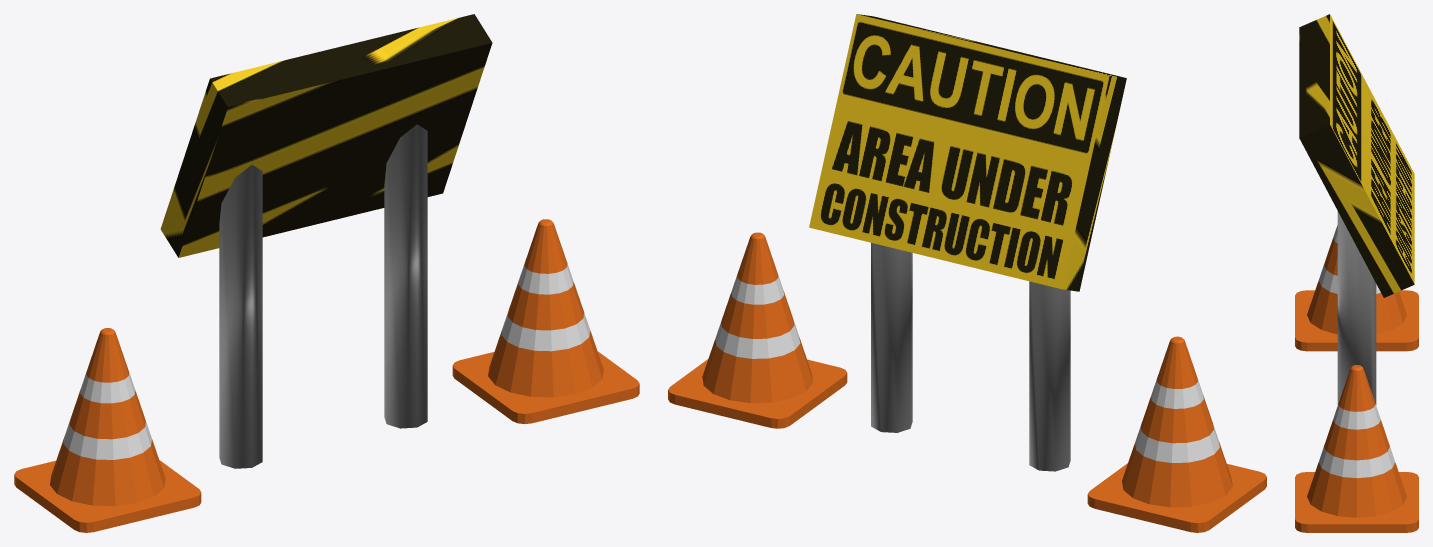
Rendered from Baustelle.fbx.
3 views of the same model, side by side, from view 1: azimuth 30°, elevation 25°; view 2: azimuth 150°, elevation 25°; view 3: azimuth 270°, elevation 25° (orthographic). The views are drawn at different scales.
Parts seen in each view (by area): view 1: Sign_UnderConstr, Pylon.001, Pylon; view 2: Sign_UnderConstr, Pylon, Pylon.001; view 3: Sign_UnderConstr, Pylon.001, Pylon.
Boxes of the visible parts, x1,y1,x2,y2 form: Sign_UnderConstr: (160,14,492,468); Pylon.001: (452,219,639,423); Pylon: (14,328,201,532); Sign_UnderConstr: (809,14,1126,471); Pylon: (1087,336,1266,532); Pylon.001: (668,232,847,428); Sign_UnderConstr: (1299,14,1414,405); Pylon.001: (1295,365,1418,532); Pylon: (1295,225,1418,351).
Size of the model in its own units: 426 by 293 by 94.64.
Materials: 6 (1 with a texture image).
